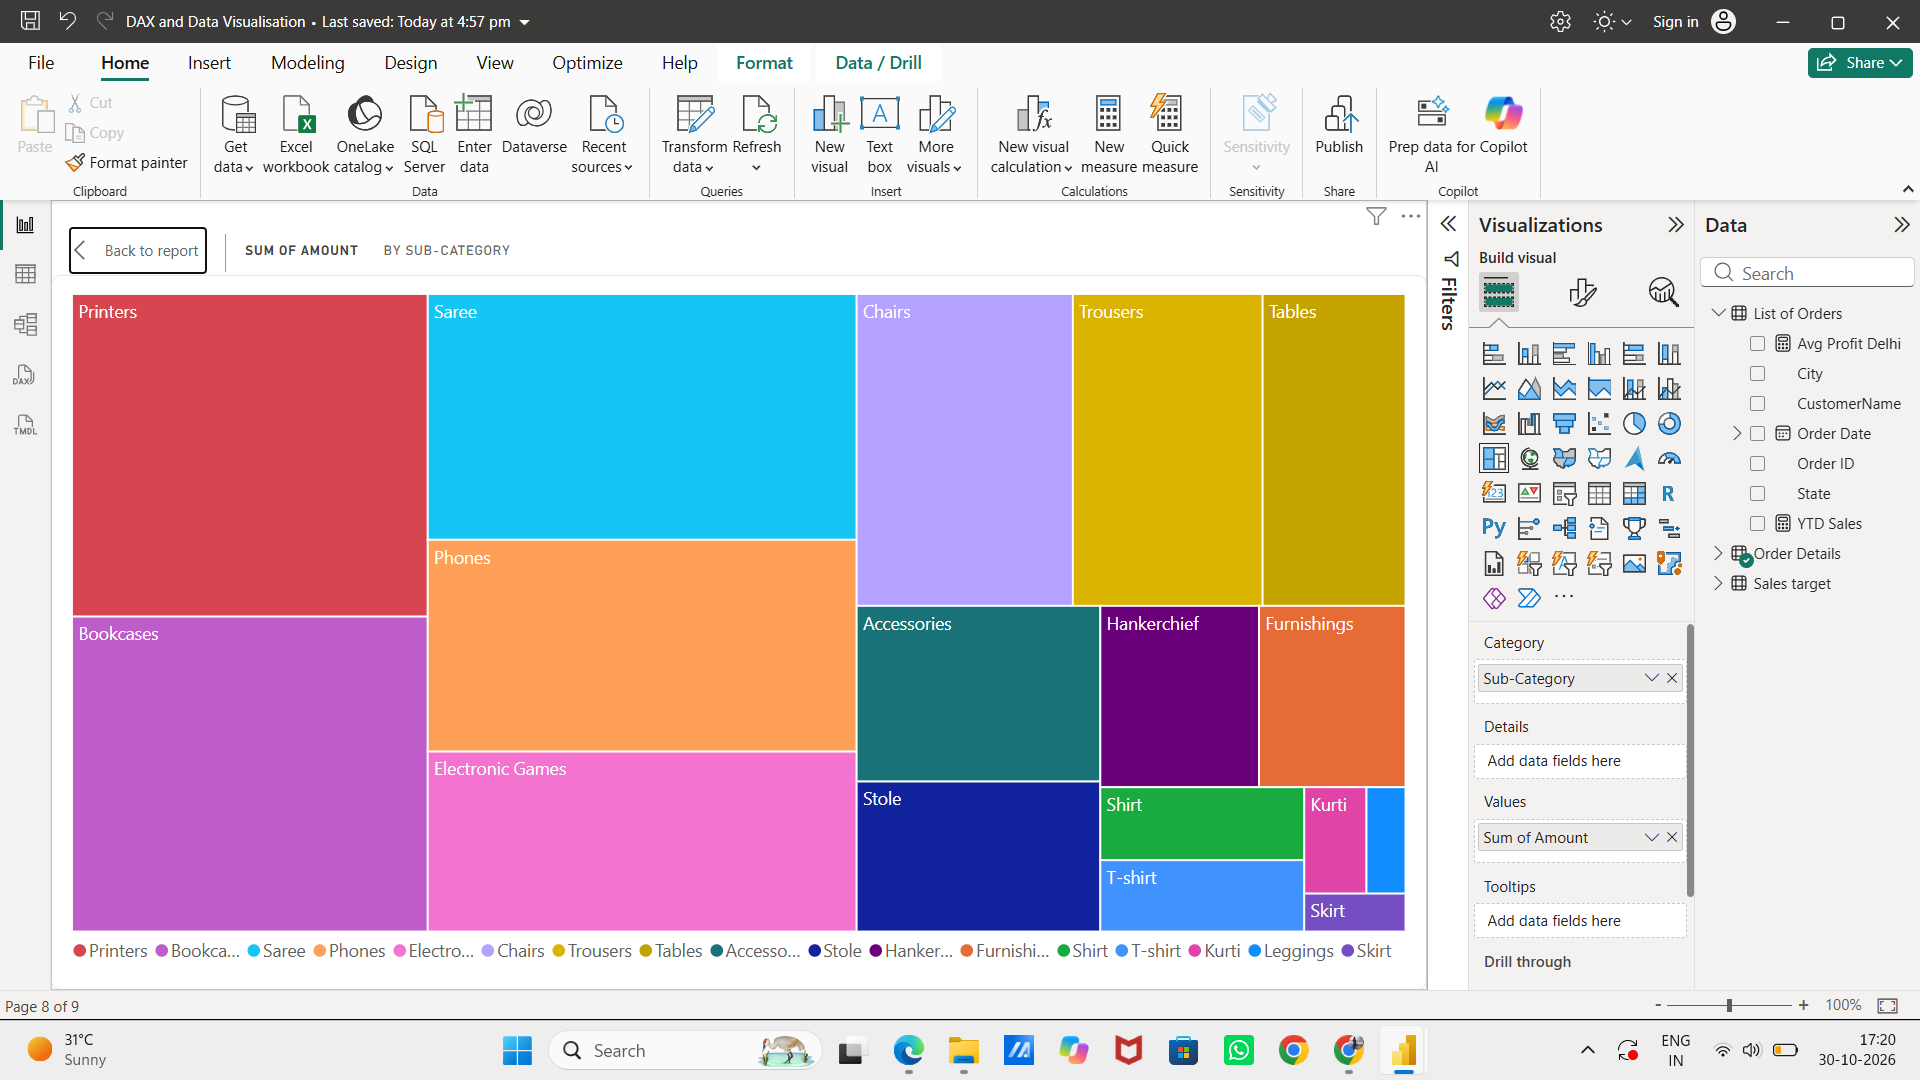

The dashboard page shown, as its layout file describes it:
{"tool":"powerbi","page":{"name":"Treemap","canvas":[1920,1080],"ordinal":7},"visuals":[{"type":"treemap","fields":{"Group":["Order Details.Sub-Category"],"Values":["Sum(Order Details.Amount)"]},"box":[0,0,457.8,443.4],"z":0}]}

Visuals, with their boxes on the page's 1920x1080 design canvas (x1, y1, x2, y2). These are canvas units, not pixel positions in the 1920x1080 screenshot, which may show the page scaled, cropped or inside an application window:
treemap - Order Details.Sub-Category x Sum(Order Details.Amount): 0,0,458,443
